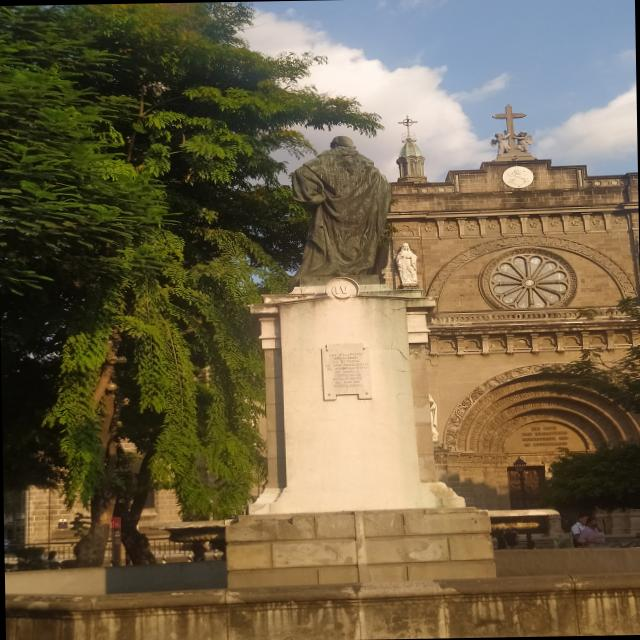King Charles IV Monument: (217, 129, 511, 595)
